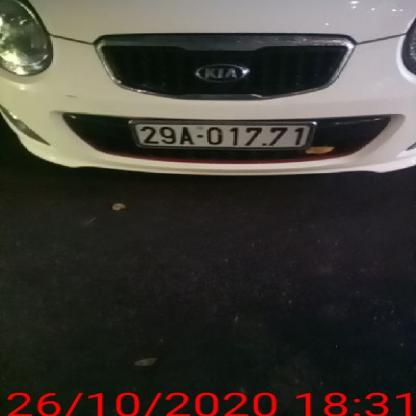biensoxe: (131, 114, 316, 155)
